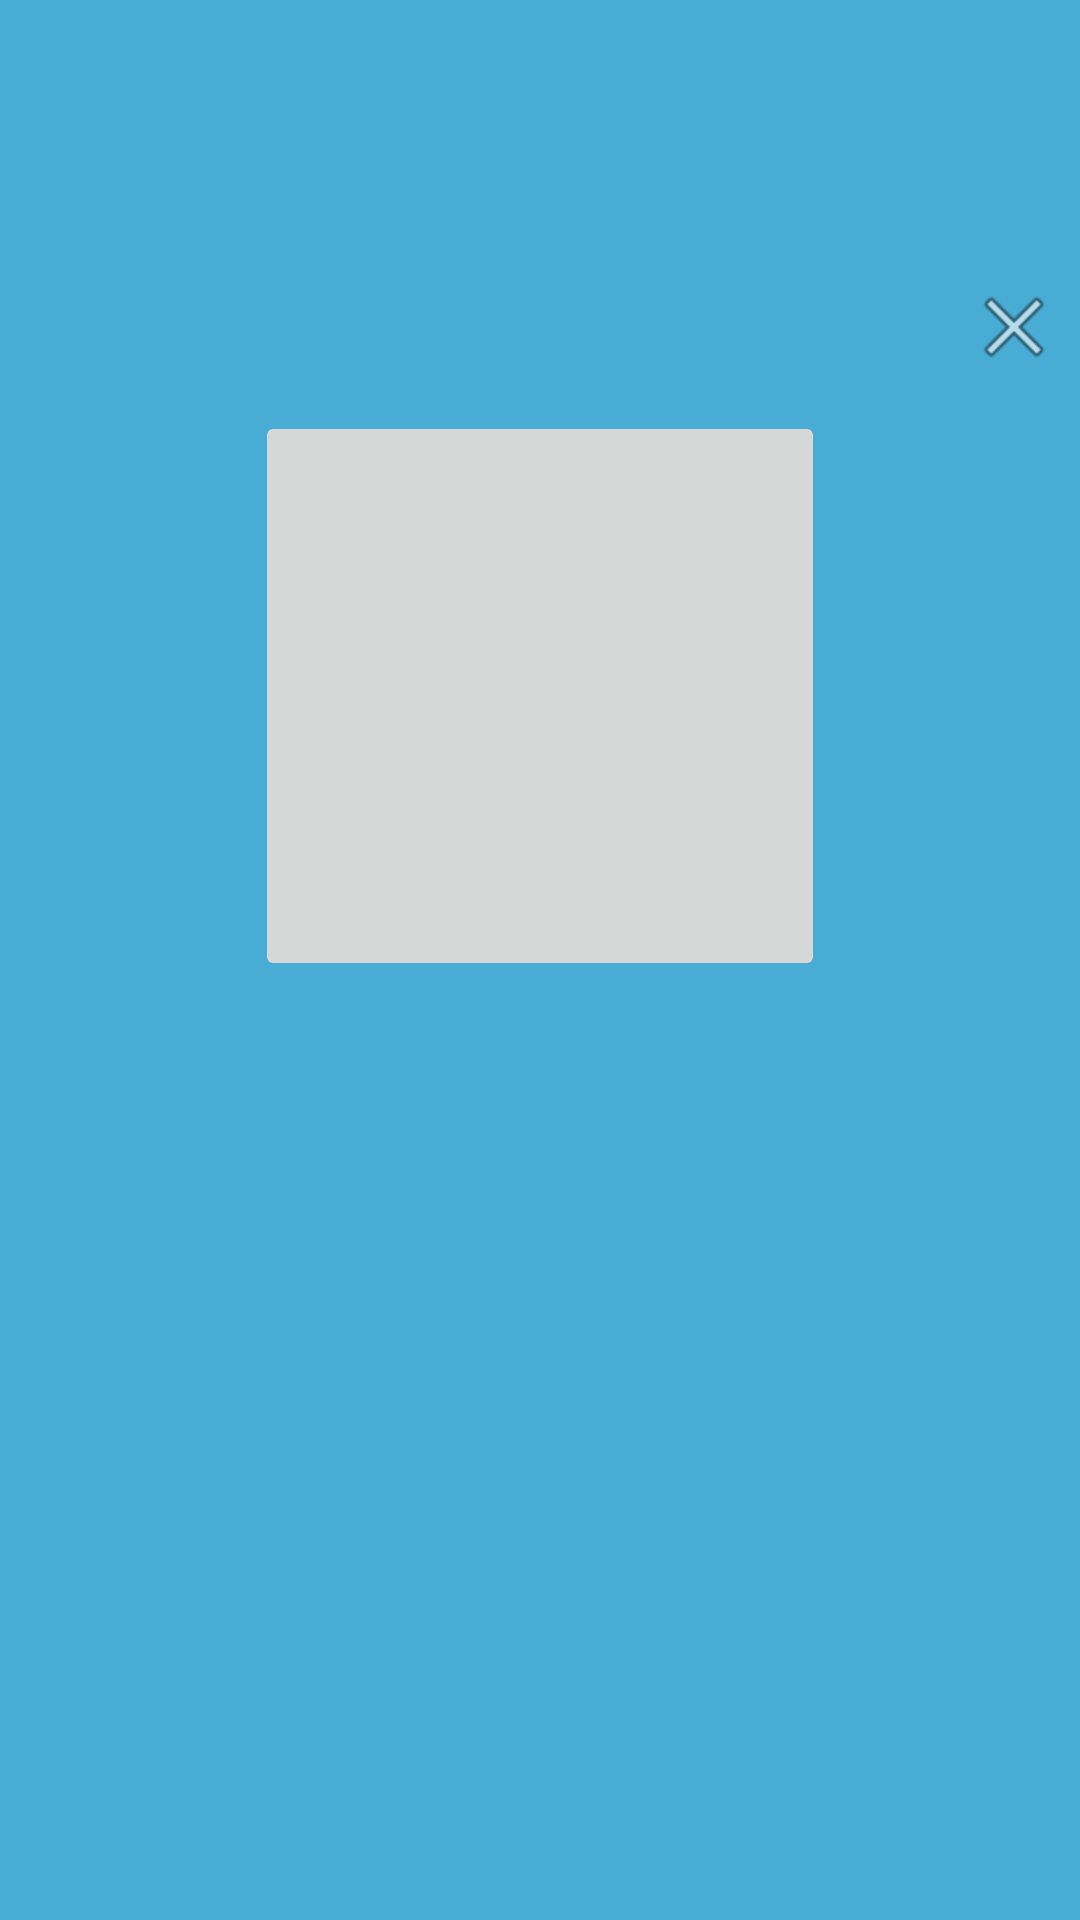

Icon click points for this 1080 × 1920 phone screenshot, format point (x, y):
close clear cancel: point (1014, 327)
